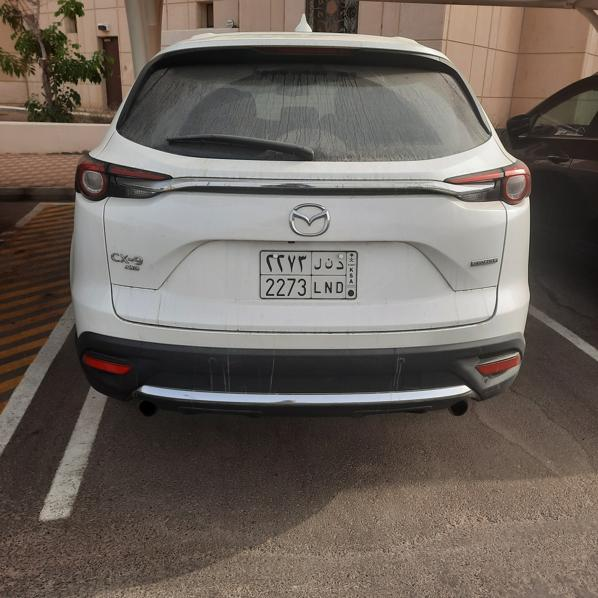numberplate: (260, 250, 357, 300)
